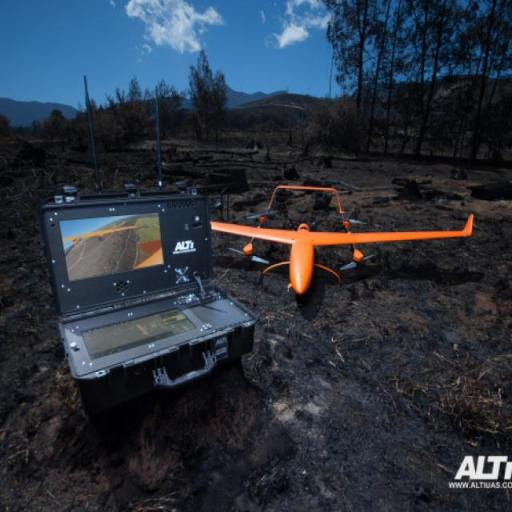uav: (223, 168, 480, 298)
